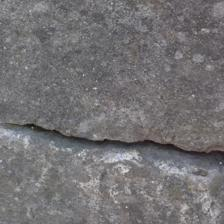Crack: (8, 115, 218, 178)
